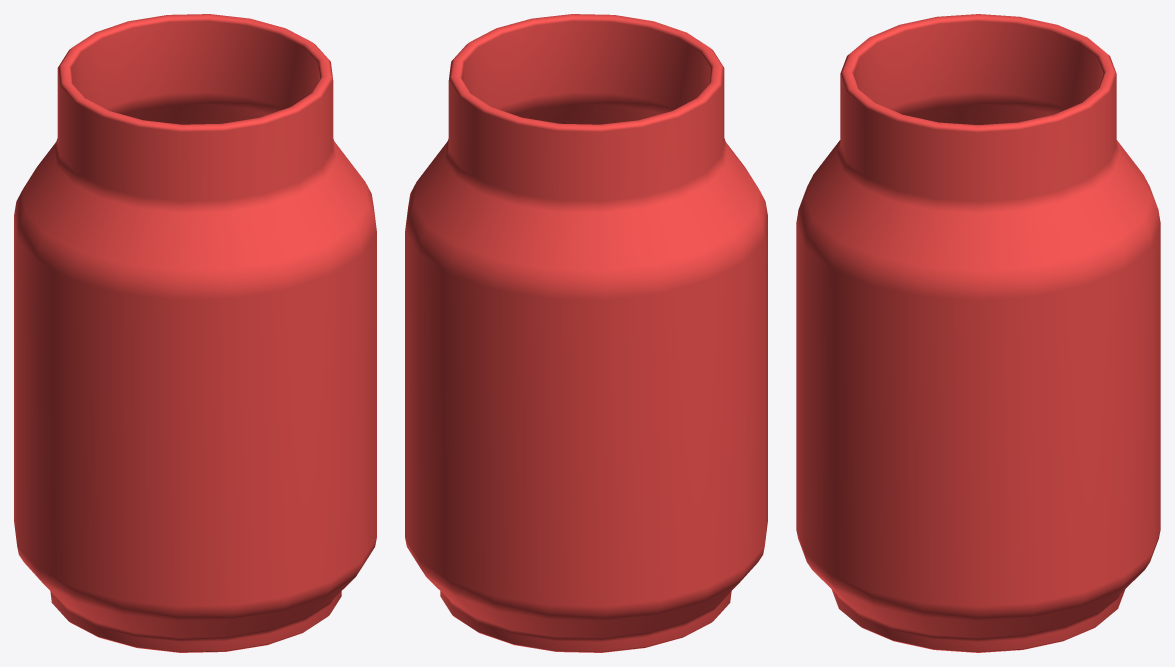
File: Town_19_Vase_1.glb
3 views of the same model, side by side, from view 1: azimuth 30°, elevation 25°; view 2: azimuth 150°, elevation 25°; view 3: azimuth 270°, elevation 25° (orthographic).
Parts seen in each view (by area): view 1: Town_19_Vase_1; view 2: Town_19_Vase_1; view 3: Town_19_Vase_1.
Boxes of the visible parts, x1,y1,x2,y2 form: Town_19_Vase_1: (14, 14, 376, 652); Town_19_Vase_1: (405, 14, 767, 652); Town_19_Vase_1: (796, 14, 1160, 652).
Bounding box in the file's own units: 0.3336 × 0.5263 × 0.3336.
Materials: 1 (1 with a texture image).
